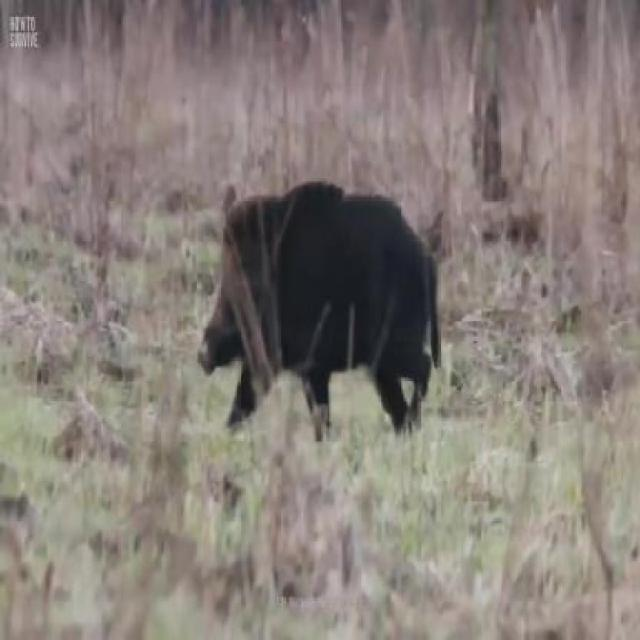pig: (190, 143, 446, 481)
